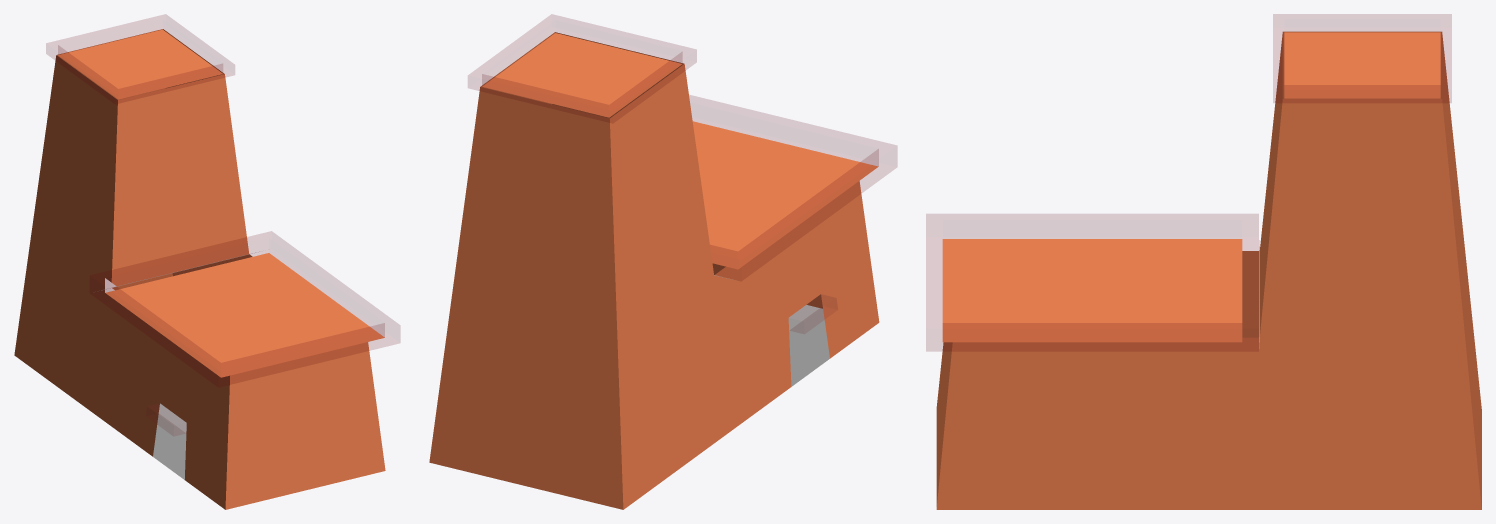
File: casa3.obj
3 views of the same model, side by side, from view 1: azimuth 30°, elevation 25°; view 2: azimuth 150°, elevation 25°; view 3: azimuth 270°, elevation 25° (orthographic). The views are drawn at different scales.
Parts seen in each view (by area): view 1: cube; view 2: cube; view 3: cube.
Part boxes in pixels (left/top/right/bottom): cube: left=14, top=14, right=399, bottom=509; cube: left=429, top=14, right=896, bottom=509; cube: left=926, top=14, right=1481, bottom=509.
Bounding box in the file's own units: 15.87 × 26.28 × 32.46.
